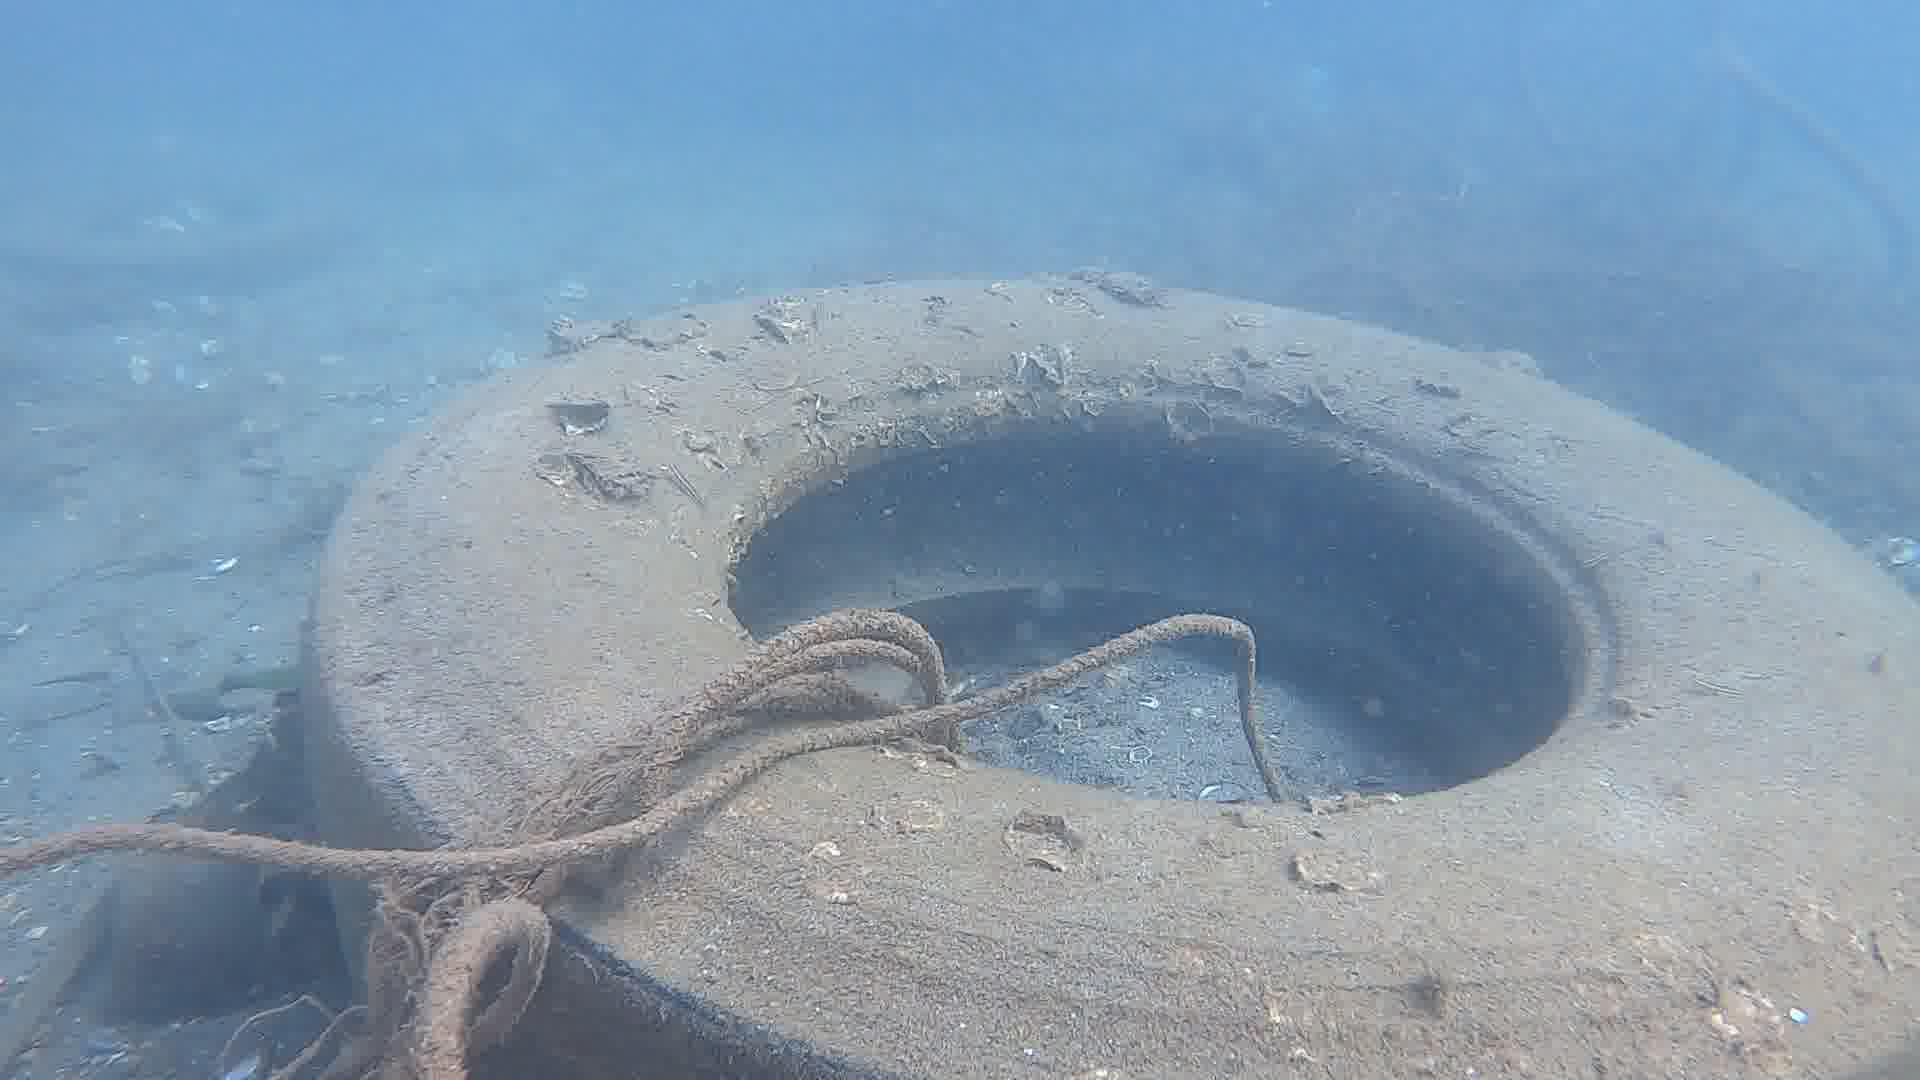bundle of ropes: (0, 605, 1290, 1080)
tire: (301, 276, 1920, 1080)
